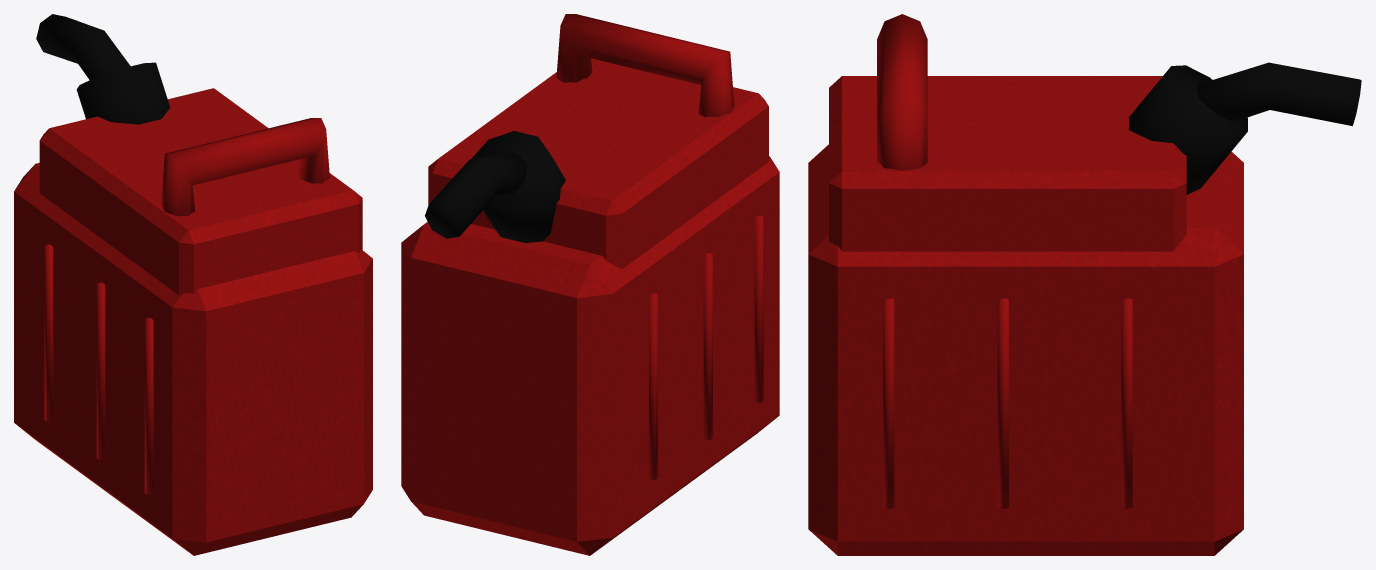
Rendered from GasCan.gltf.
3 views of the same model, side by side, from view 1: azimuth 30°, elevation 25°; view 2: azimuth 150°, elevation 25°; view 3: azimuth 270°, elevation 25° (orthographic). The views are drawn at different scales.
Parts seen in each view (by area): view 1: GasCan__Body; view 2: GasCan__Body; view 3: GasCan__Body.
Part boxes in pixels (x1=…): GasCan__Body: x1=14, y1=14, x2=372, y2=555; GasCan__Body: x1=401, y1=14, x2=779, y2=555; GasCan__Body: x1=808, y1=14, x2=1361, y2=555.
Bounding box in the file's own units: 0.1768 × 0.3047 × 0.3378.
Materials: 1 (1 with a texture image).
